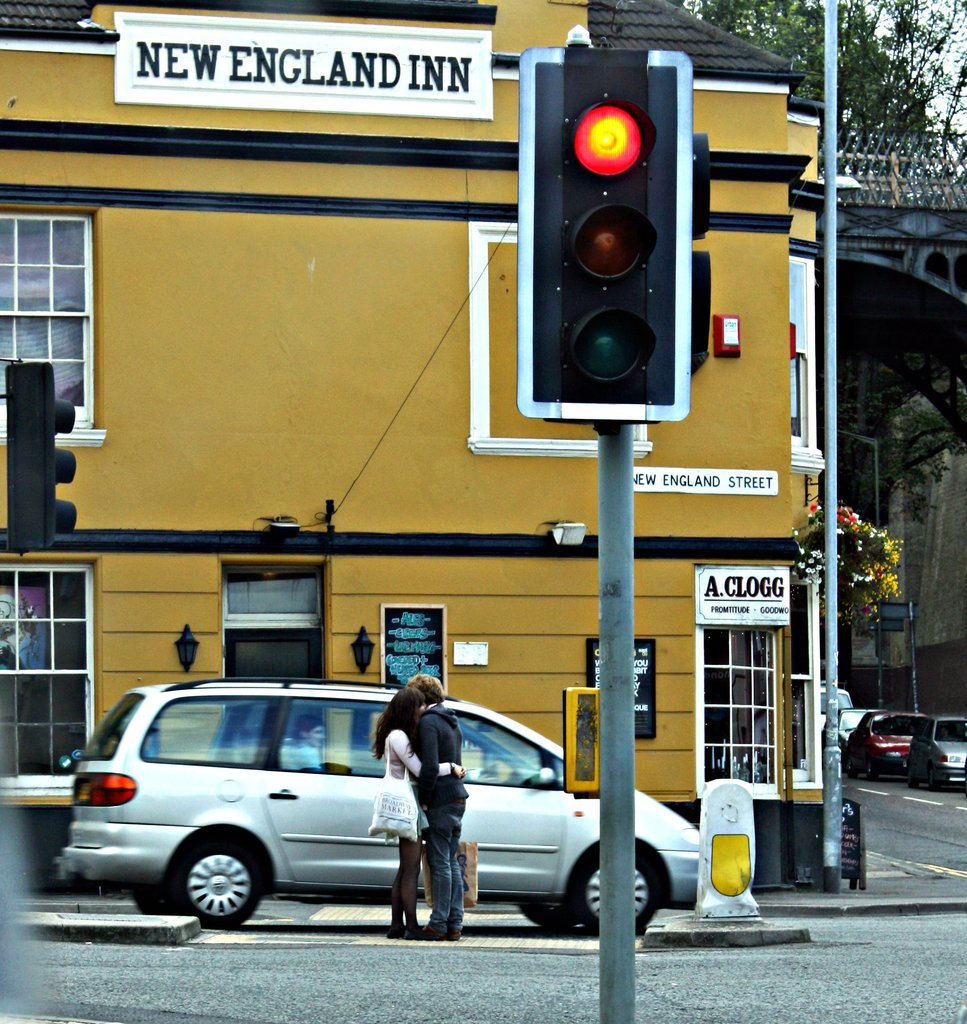red_light: (525, 54, 688, 414)
